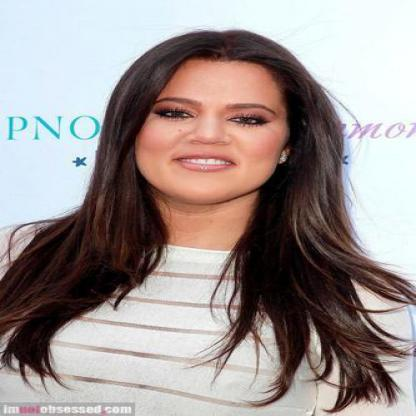long-hair: (18, 208, 386, 266)
